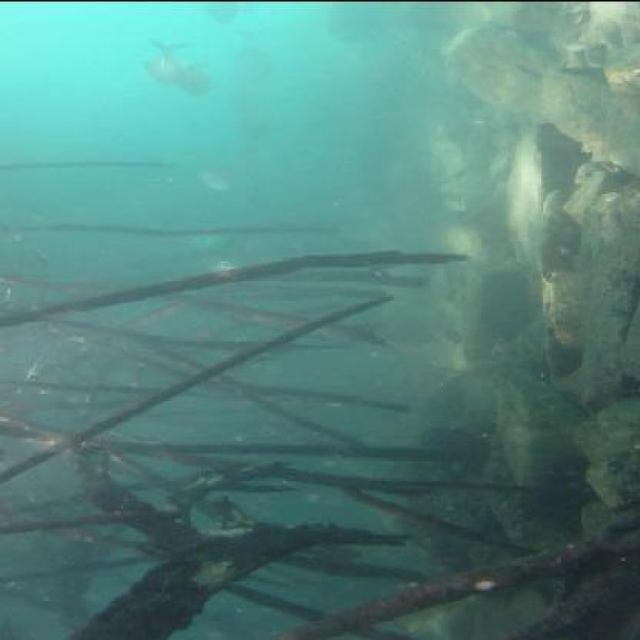Caranx_sexfasciatus_juvenile: (169, 57, 225, 98), (186, 156, 243, 195), (145, 34, 189, 84)
